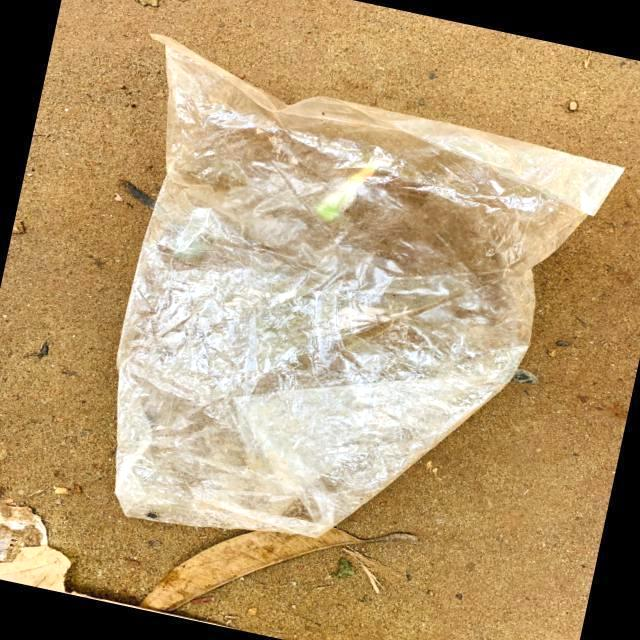polythene: (175, 71, 461, 516)
